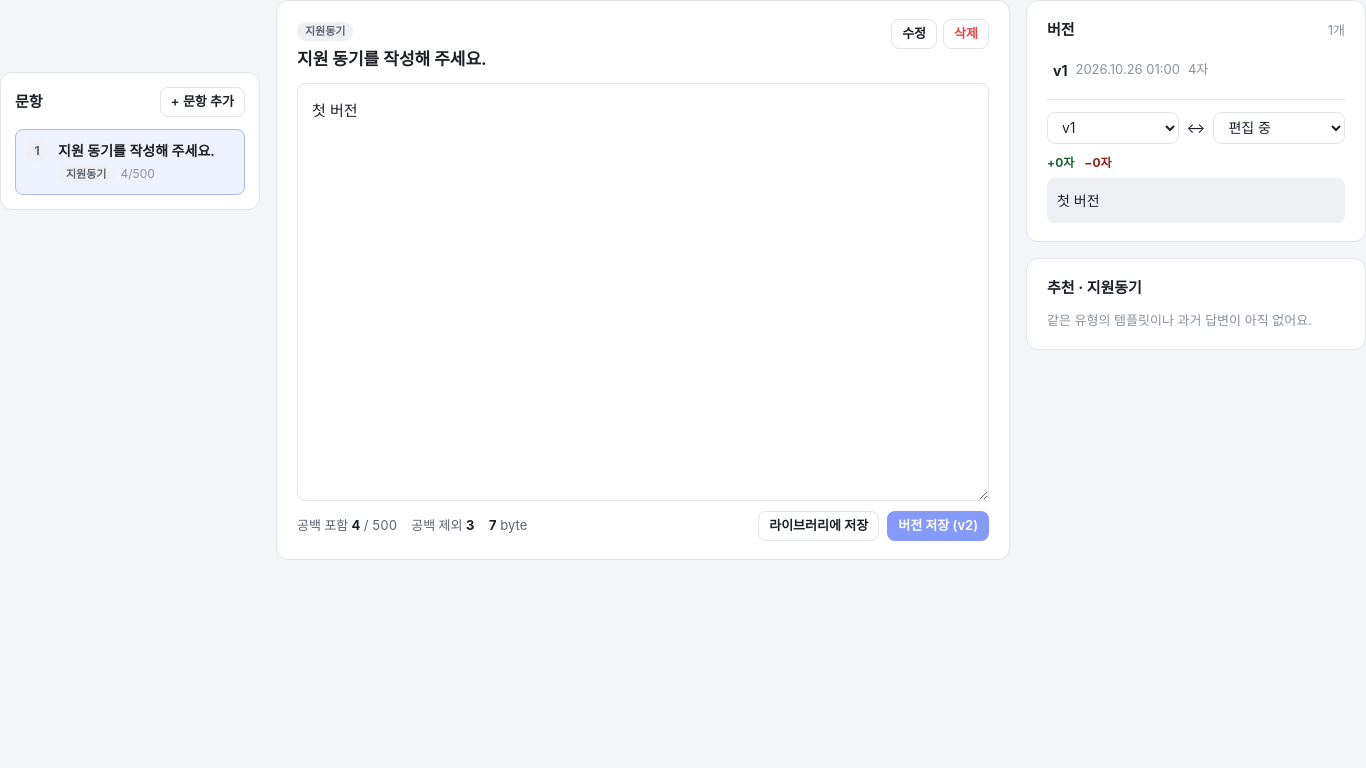
Test: 자기소개서 편집기 › 버전 저장 › 보고 있던 최신 버전 번호를 함께 보내 새 버전으로 저장한다
Type " 고침" into the text box named "답변" at (643, 292), box [297,83,989,501]
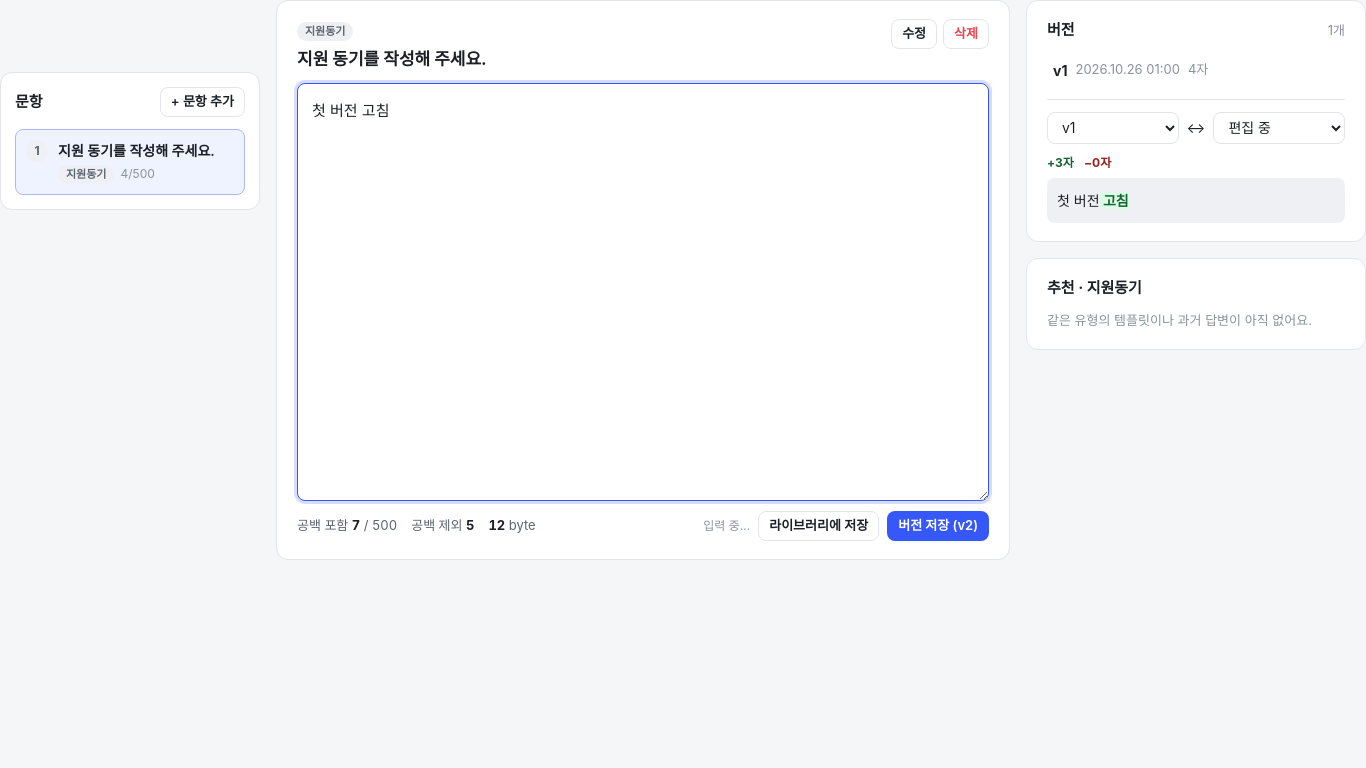
Click the button "버전 저장 (v2)" at (938, 526), box [887,511,989,541]
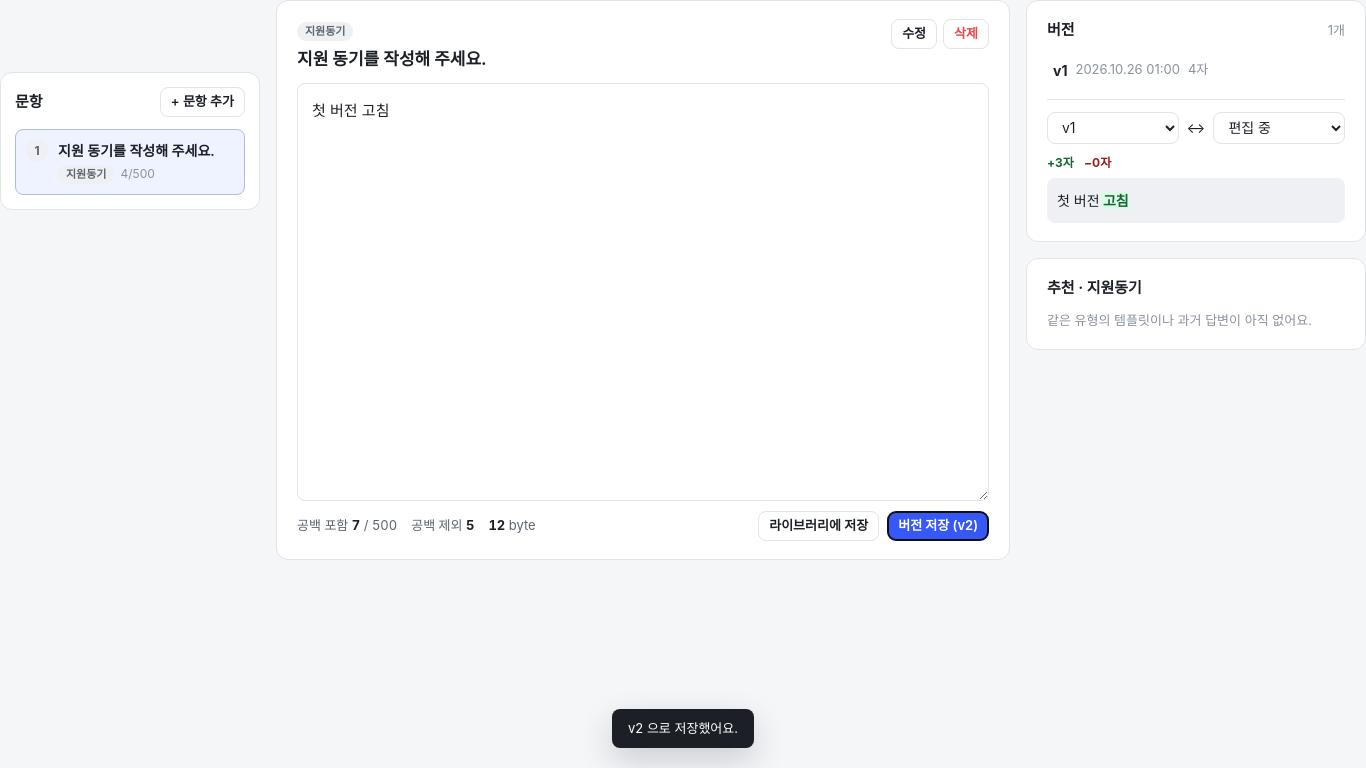
Now the text "v2 으로 저장했어요." is shown, box [612,708,754,748]
